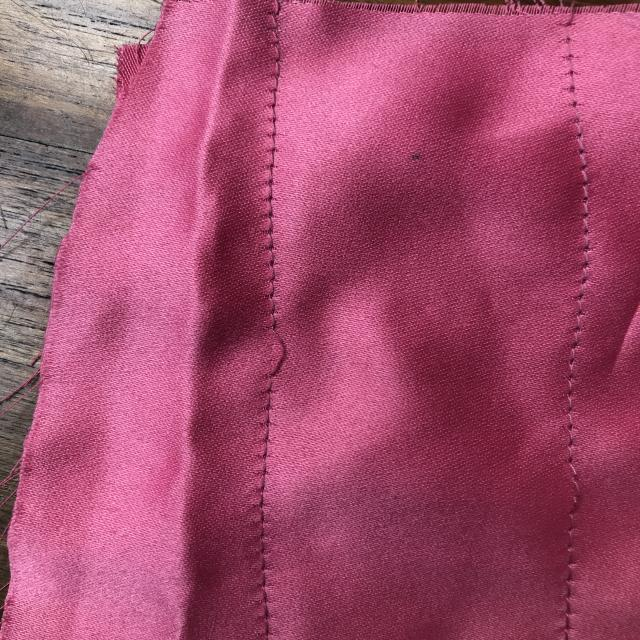skip: (252, 315, 312, 391)
